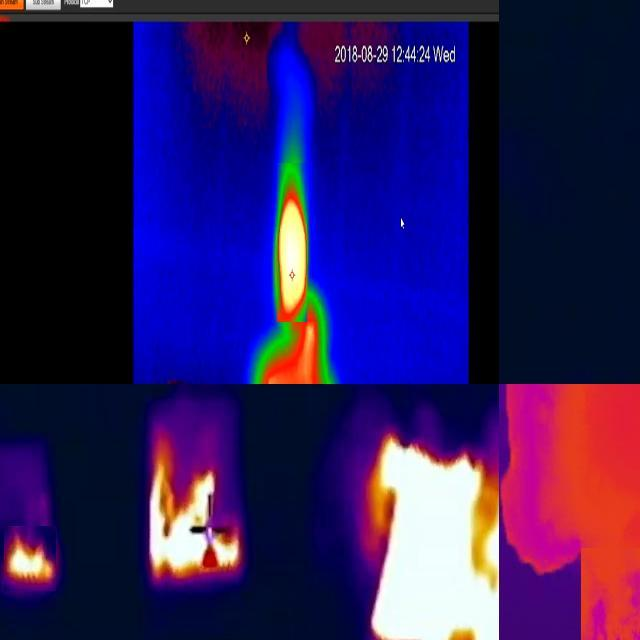fire: (367, 434, 500, 640), (150, 445, 242, 587), (278, 164, 308, 323), (5, 527, 57, 592)
